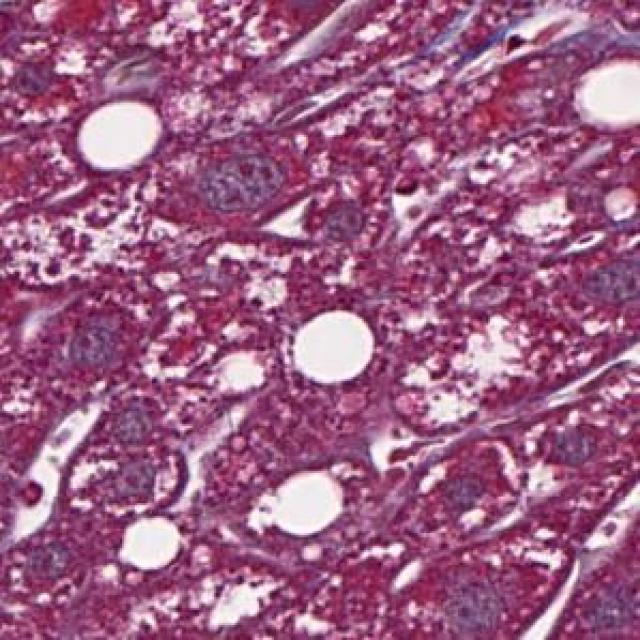steatosis: (246, 464, 353, 538), (286, 302, 374, 383), (75, 98, 165, 172), (111, 512, 195, 563)
